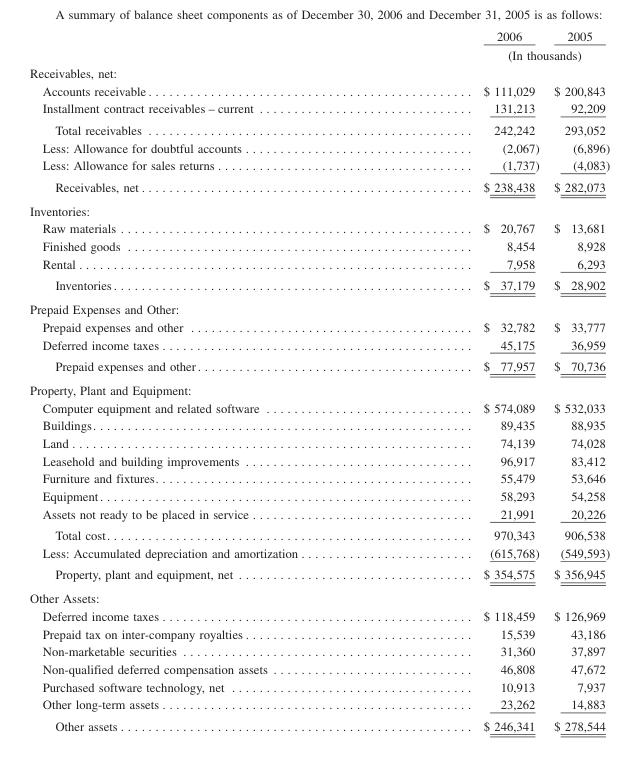table: (29, 29, 609, 732)
table column: (29, 29, 389, 732), (389, 29, 545, 732), (545, 29, 609, 732)
table column header: (29, 29, 609, 63)
table projected row header: (29, 198, 609, 219), (29, 296, 609, 317), (29, 377, 609, 398), (29, 586, 609, 606), (29, 63, 609, 81)
table row: (29, 175, 609, 198), (29, 563, 609, 586), (29, 274, 609, 296), (29, 355, 609, 377), (29, 198, 609, 219), (29, 296, 609, 317), (29, 377, 609, 398), (29, 118, 609, 138), (29, 254, 609, 274), (29, 335, 609, 355), (29, 504, 609, 524), (29, 543, 609, 563), (29, 586, 609, 606), (29, 99, 609, 118), (29, 156, 609, 175), (29, 524, 609, 543), (29, 695, 609, 714), (29, 45, 609, 63), (29, 63, 609, 81), (29, 81, 609, 99), (29, 138, 609, 156), (29, 236, 609, 254), (29, 317, 609, 335), (29, 398, 609, 416), (29, 433, 609, 451), (29, 451, 609, 469), (29, 469, 609, 487), (29, 606, 609, 624), (29, 624, 609, 642), (29, 659, 609, 677), (29, 677, 609, 695), (29, 714, 609, 732), (29, 219, 609, 236), (29, 416, 609, 433), (29, 487, 609, 504), (29, 642, 609, 659), (29, 29, 609, 45)
table spanning cell: (389, 45, 609, 63)
